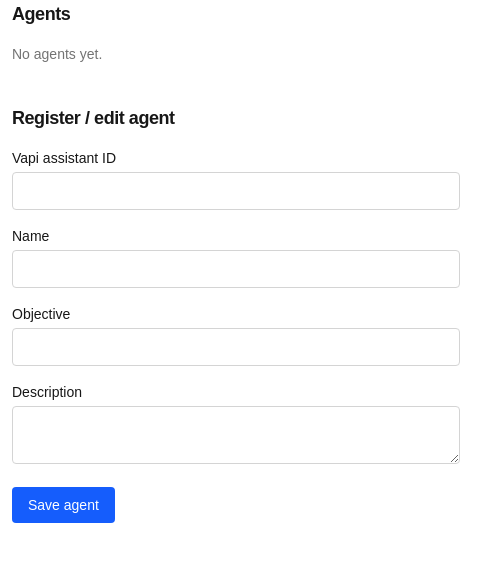
AgentsView › surfaces an error and keeps the entered input when the mutation fails
Expected: the text "No agents yet." is shown, [12,46,102,62]
In the field labelled "Vapi assistant ID": x=236, y=191 [12,172,460,210], type "va-1"
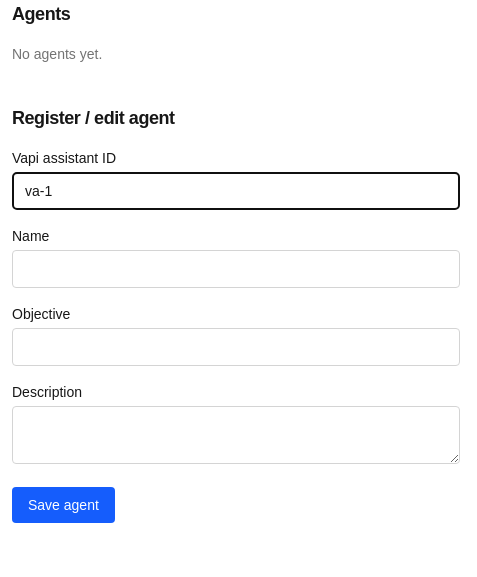
In the field labelled "Name": x=236, y=269 [12,250,460,288], type "Sales Agent"
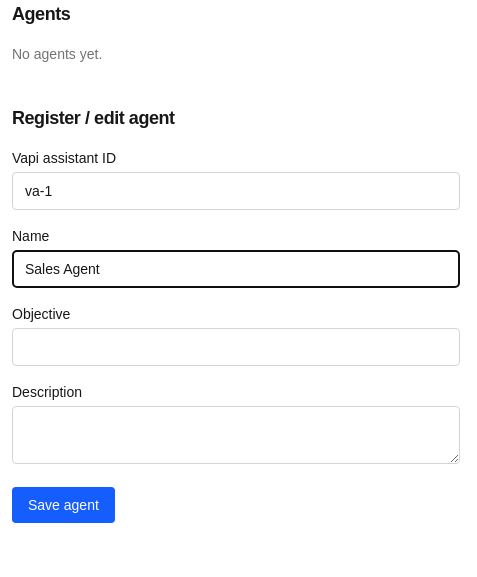
In the field labelled "Objective": x=236, y=347 [12,328,460,366], type "Book demos"
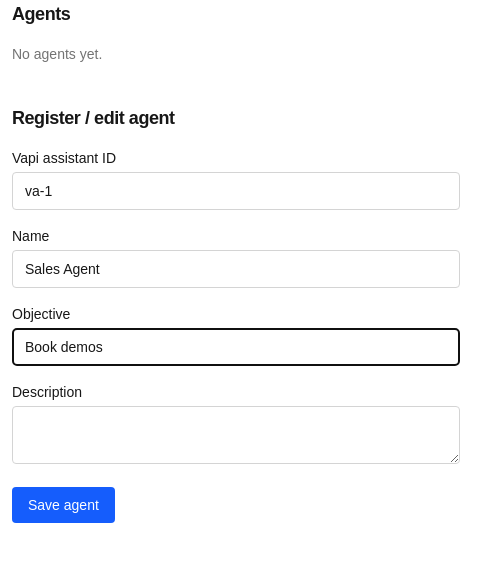
Click the button "Save agent": x=63, y=505 [12,487,115,523]
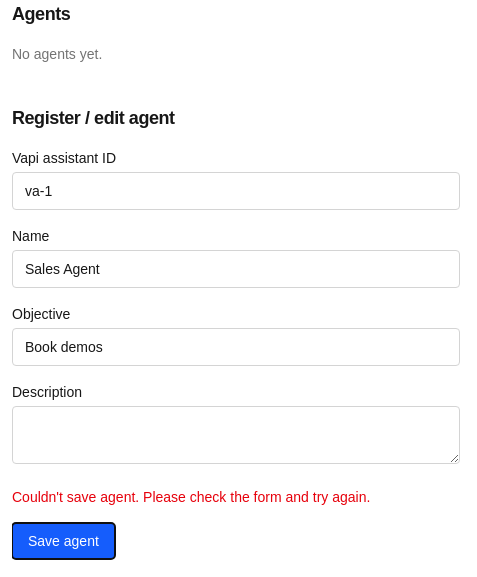
Expected: the message "Couldn't save agent. Please check the form and try again." is shown, [12,489,370,505]
